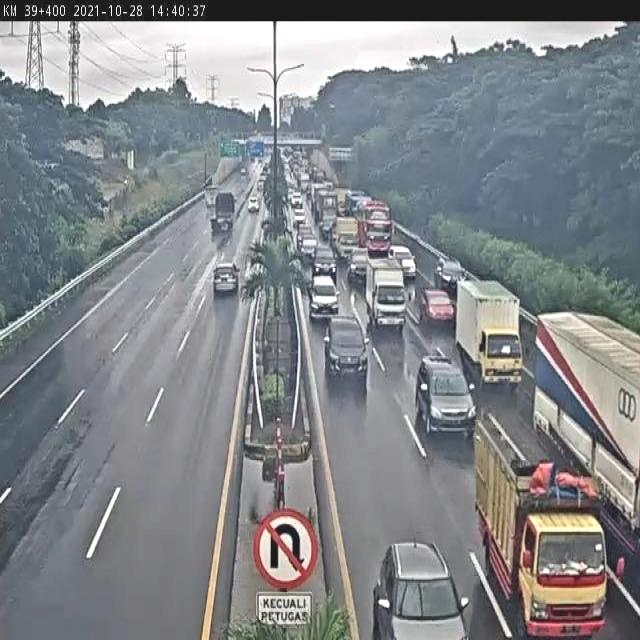Car: (404, 329, 489, 461), (323, 315, 371, 389), (307, 273, 340, 320), (434, 258, 466, 295), (388, 244, 416, 279), (212, 262, 239, 295), (299, 235, 318, 262)
Truck: (530, 317, 640, 623), (371, 537, 471, 638), (456, 278, 523, 392), (364, 257, 407, 332), (255, 437, 311, 486), (359, 203, 393, 257), (326, 132, 362, 181), (419, 288, 455, 326), (333, 215, 359, 260), (210, 192, 236, 235), (316, 189, 338, 230), (312, 245, 337, 280), (347, 248, 370, 284), (327, 188, 352, 220), (461, 352, 477, 395), (286, 254, 304, 289), (310, 182, 330, 212), (396, 224, 421, 248), (298, 258, 315, 291), (367, 208, 391, 230), (262, 451, 278, 484), (244, 259, 263, 284), (268, 131, 315, 141), (425, 348, 451, 364), (354, 196, 372, 216), (444, 257, 464, 275), (280, 216, 292, 244), (312, 195, 324, 223), (322, 328, 332, 359), (267, 161, 281, 182), (205, 189, 218, 211), (290, 163, 302, 186), (96, 198, 110, 217), (292, 208, 306, 226), (290, 190, 303, 208), (280, 112, 292, 131), (263, 177, 272, 201), (365, 312, 373, 338), (260, 218, 272, 235), (40, 160, 60, 170), (248, 195, 259, 212), (312, 168, 325, 182), (260, 160, 269, 180), (296, 230, 304, 252), (236, 140, 246, 157), (252, 162, 262, 179), (282, 147, 293, 162), (246, 163, 256, 179), (127, 149, 134, 171), (264, 143, 274, 158), (300, 172, 310, 186), (202, 176, 213, 188), (210, 214, 218, 230), (435, 257, 443, 273), (276, 134, 292, 142), (294, 146, 303, 160), (287, 189, 295, 203), (232, 138, 246, 146), (321, 122, 327, 140), (306, 183, 313, 198), (257, 179, 265, 192), (255, 155, 263, 167), (242, 156, 250, 168), (233, 261, 239, 276), (257, 147, 265, 158), (240, 166, 247, 176), (275, 416, 282, 426), (124, 178, 128, 188)
